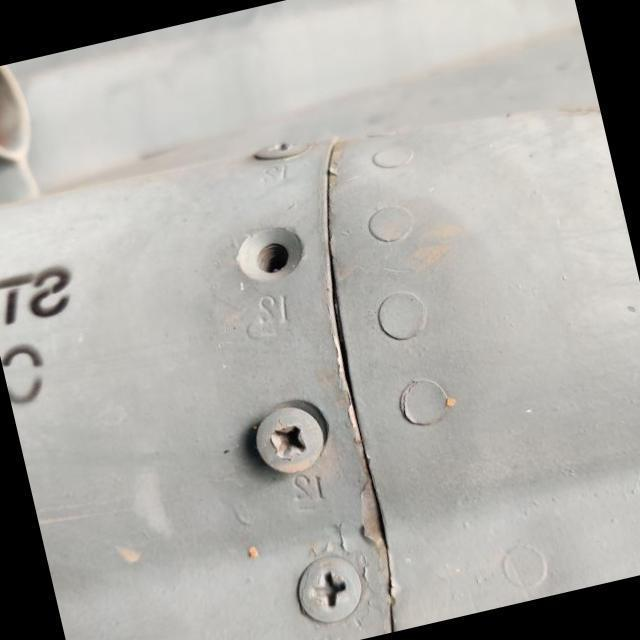Fastener Damage: (204, 189, 342, 318)
